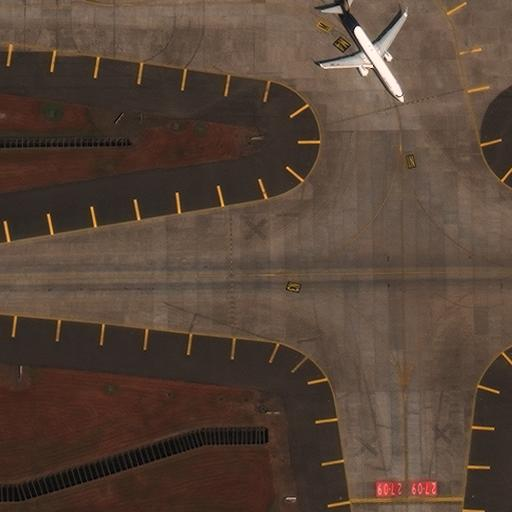Medium Civil Transport: (319, 0, 407, 101)
